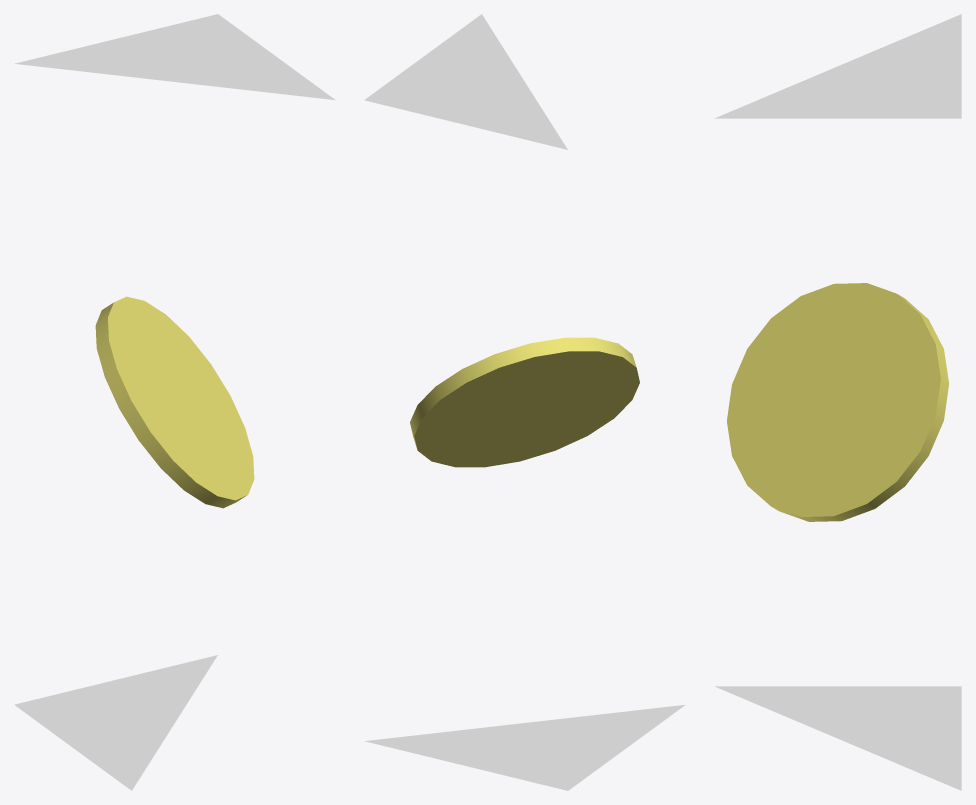
File: COIN.fbx
The picture shows the model from 3 angles, left to right: view 1: azimuth 30°, elevation 25°; view 2: azimuth 150°, elevation 25°; view 3: azimuth 270°, elevation 25°; orthographic projection. The views are drawn at different scales.
Parts seen in each view (by area): view 1: COIN; view 2: COIN; view 3: COIN.
Boxes of the visible parts, bbox=[...] form: COIN: bbox=[14, 14, 335, 790]; COIN: bbox=[364, 14, 685, 790]; COIN: bbox=[714, 14, 961, 790].
Size of the model in its own units: 99.99 by 300 by 99.99.
